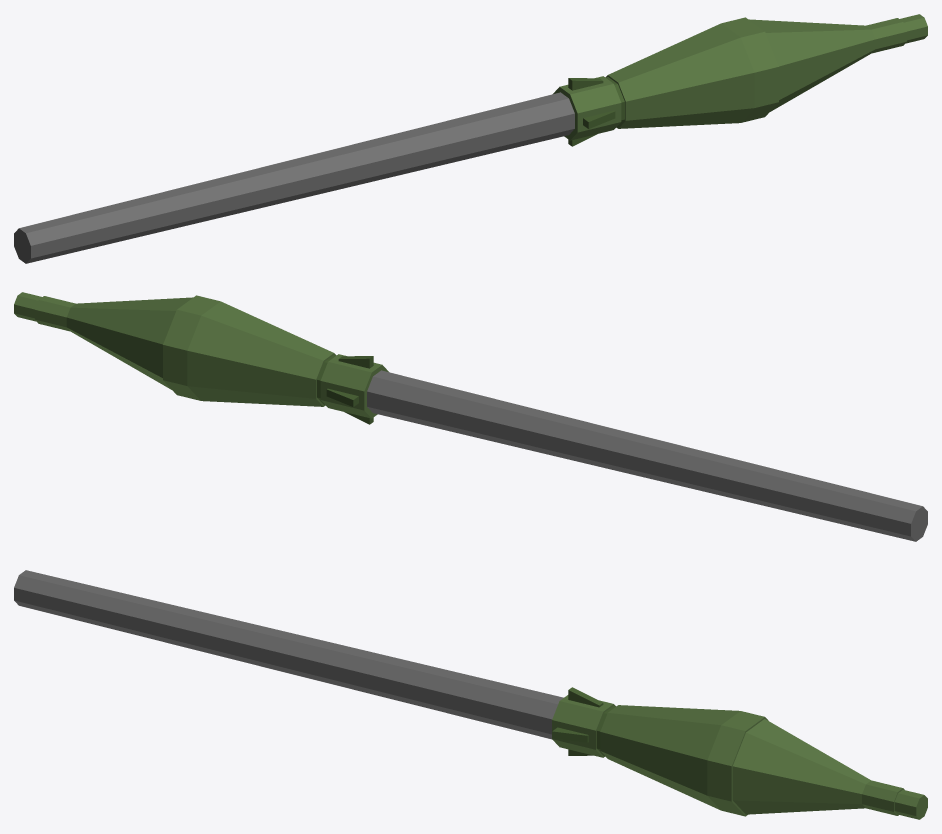
Rendered from HeavyWeapon2_06_3.fbx.
3 renders of one model, top to bottom at view 1: azimuth 30°, elevation 25°; view 2: azimuth 150°, elevation 25°; view 3: azimuth 330°, elevation 25°, orthographic.
Parts seen in each view (by area): view 1: HeavyWeapon2_06_3; view 2: HeavyWeapon2_06_3; view 3: HeavyWeapon2_06_3.
Boxes of the visible parts, x1,y1,x2,y2 form: HeavyWeapon2_06_3: [14, 14, 927, 263]; HeavyWeapon2_06_3: [14, 292, 927, 541]; HeavyWeapon2_06_3: [14, 570, 927, 819].
Bounding box in the file's own units: 1.07 × 0.097 × 0.097.
